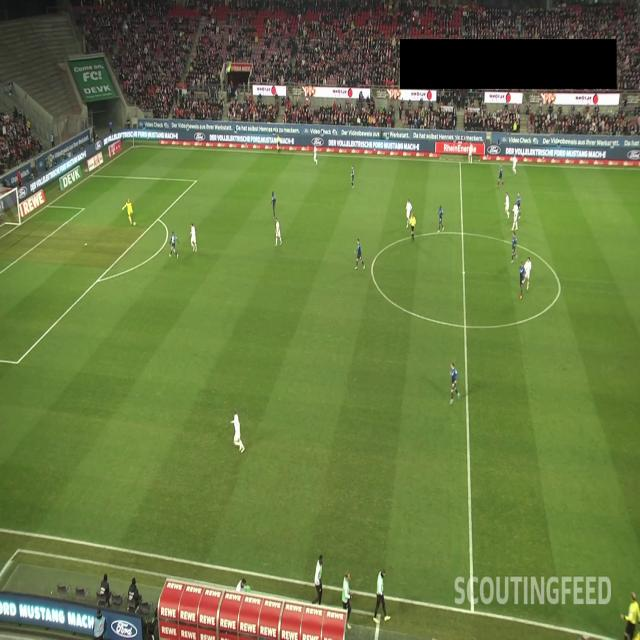ball: (133, 220, 136, 227)
goalkeeper: (122, 196, 133, 226)
player: (230, 410, 245, 452), (449, 361, 461, 405), (354, 237, 366, 270), (168, 230, 180, 259), (523, 256, 532, 292), (519, 259, 526, 300), (437, 205, 445, 232), (512, 200, 519, 230), (511, 232, 518, 262), (190, 222, 197, 252), (405, 199, 412, 228), (275, 217, 282, 246), (496, 164, 504, 188), (515, 192, 521, 220), (504, 192, 510, 219), (511, 154, 518, 177), (271, 190, 276, 218), (468, 140, 473, 165), (313, 145, 318, 166), (350, 164, 354, 188)
referee: (620, 592, 640, 640), (409, 212, 416, 242), (276, 133, 281, 155)
